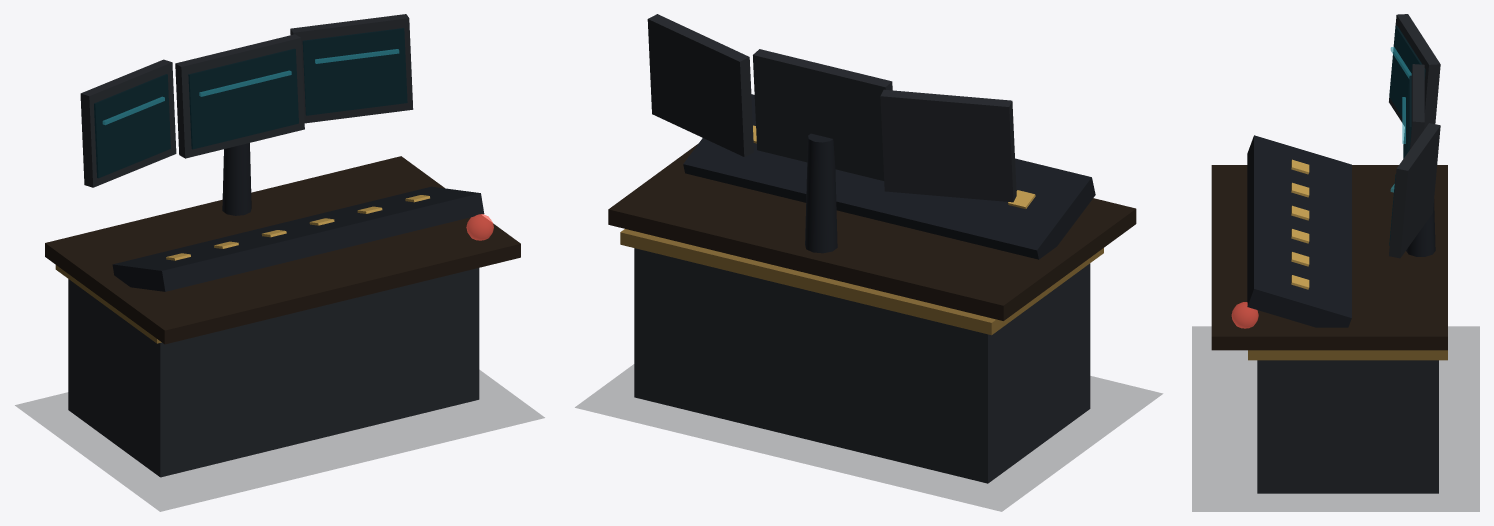
The model's file is hp_room_desire_security_console.glb.
3 views of the same model, side by side, from view 1: azimuth 30°, elevation 25°; view 2: azimuth 150°, elevation 25°; view 3: azimuth 270°, elevation 25° (orthographic). The views are drawn at different scales.
Parts seen in each view (by area): view 1: pedestal, worktop, contact_shadow, deck, screen_1, screen_2, screen_0, screen_frame_1, screen_frame_0, screen_frame_2, screen_post; view 2: pedestal, worktop, deck, contact_shadow, screen_frame_0, screen_frame_1, screen_frame_2, pedestal_trim, screen_post; view 3: pedestal, worktop, contact_shadow, deck, screen_frame_2, pedestal_trim, screen_frame_0, screen_0, screen_frame_1, screen_post, alert_dome, screen_1.
Part boxes in pixels (x1,y1,x2,y2): pedestal: (68,268,479,477); worktop: (45,156,520,344); contact_shadow: (15,370,544,511); deck: (112,186,484,291); screen_1: (188,48,298,149); screen_2: (302,28,407,115); screen_0: (94,74,170,178); screen_frame_1: (175,34,304,158); screen_frame_0: (80,59,176,187); screen_frame_2: (290,14,413,123); screen_post: (222,143,251,215); pedestal: (634,248,1090,483); worktop: (608,143,1136,320); deck: (683,94,1095,259); contact_shadow: (575,364,1162,511); screen_frame_0: (880,89,1016,202); screen_frame_1: (753,49,892,180); screen_frame_2: (647,14,753,156); pedestal_trim: (620,229,1103,335); screen_post: (805,133,837,253); pedestal: (1257,360,1438,493); worktop: (1211,165,1447,350); contact_shadow: (1192,326,1479,511); deck: (1247,135,1351,327); screen_frame_2: (1389,123,1440,258); pedestal_trim: (1248,350,1447,360); screen_frame_0: (1389,14,1440,129); screen_0: (1389,25,1425,121); screen_frame_1: (1409,64,1424,149); screen_post: (1406,199,1435,256); alert_dome: (1231,302,1258,328); screen_1: (1403,75,1411,158).
Bounding box in the file's own units: 1.45 × 1.19 × 0.95.
